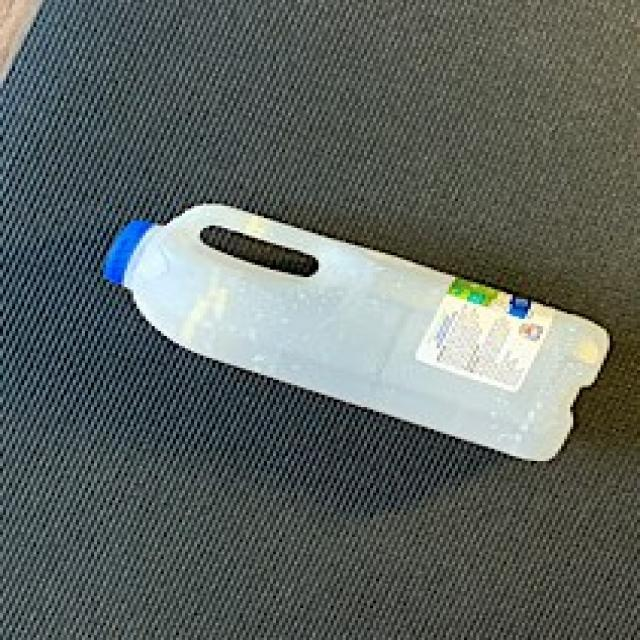HDPE Plastic: (96, 196, 620, 470)
